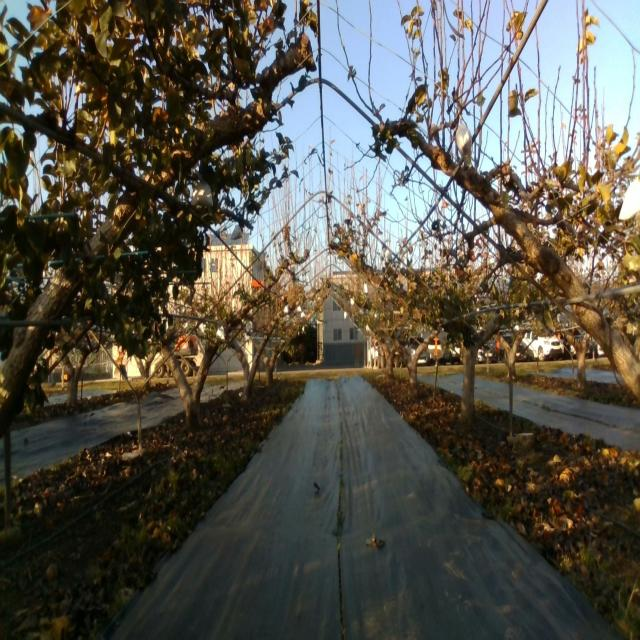pearbags: (618, 176, 640, 222), (190, 174, 214, 208), (455, 124, 472, 169)
